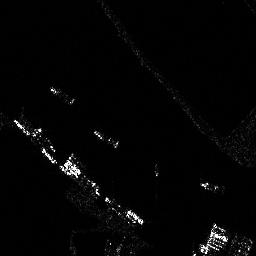ship: (92, 128, 119, 148), (49, 87, 75, 103), (200, 181, 225, 193)
